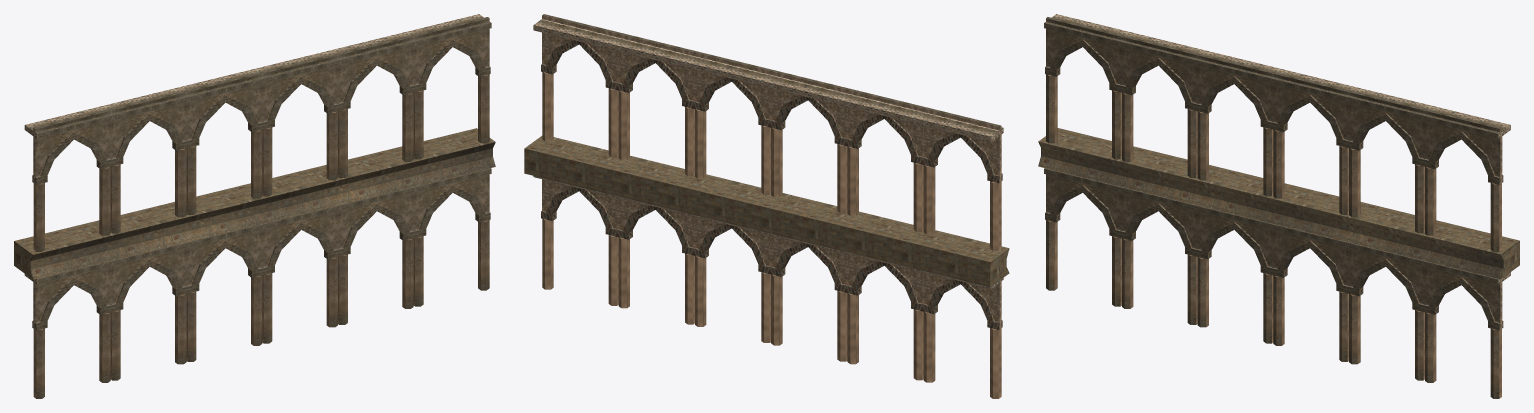
Rendered from serai-wall.glb.
3 renders of one model, left to right at view 1: azimuth 30°, elevation 25°; view 2: azimuth 150°, elevation 25°; view 3: azimuth 330°, elevation 25°, orthographic.
Visible parts, largest first — view 1: Cube.004; view 2: Cube.004; view 3: Cube.004.
Part boxes in pixels (left/top/right/bottom): Cube.004: left=14, top=14, right=495, bottom=398; Cube.004: left=524, top=14, right=1009, bottom=398; Cube.004: left=1038, top=14, right=1519, bottom=398.
Size of the model in its own units: 28.1 by 15.65 by 2.
Materials: 2 (2 with a texture image).
